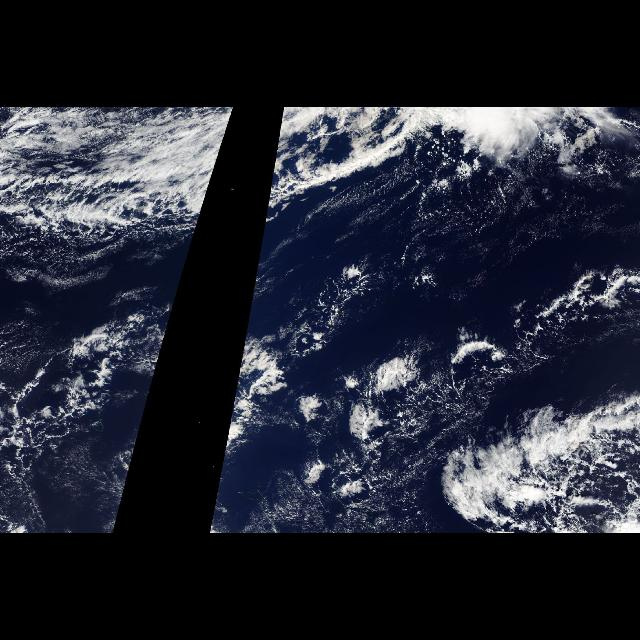Fish: (15, 110, 234, 270), (14, 287, 178, 485), (402, 386, 634, 522), (256, 110, 374, 270), (218, 287, 298, 485)
Sugar: (0, 258, 162, 458)
